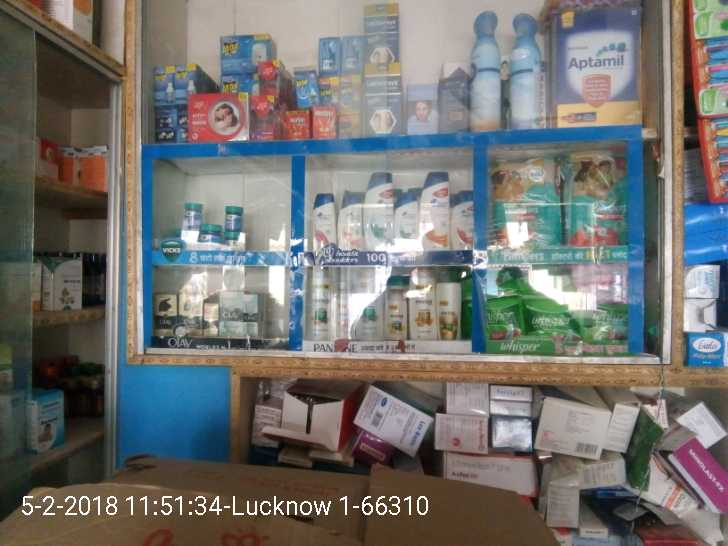vicks: (175, 190, 252, 253)
